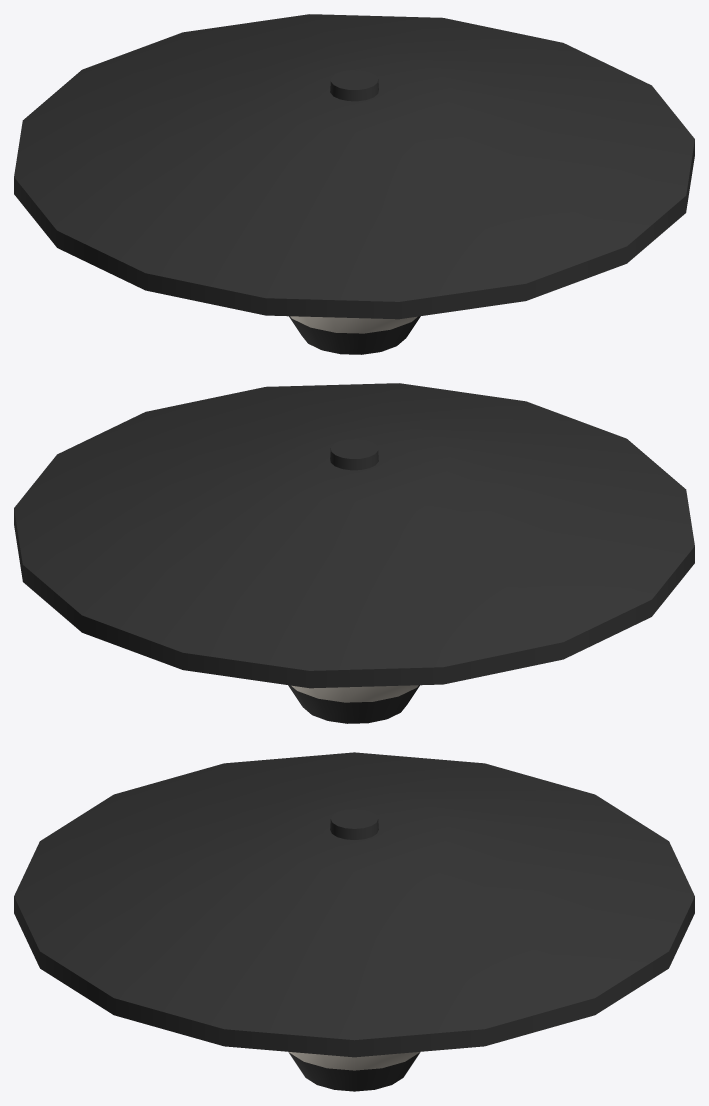
The picture shows the model from 3 angles, top to bottom: view 1: azimuth 30°, elevation 25°; view 2: azimuth 150°, elevation 25°; view 3: azimuth 270°, elevation 25°; orthographic projection.
Visible parts, largest first — view 1: Indal 2020, Indal 2020 Glas; view 2: Indal 2020, Indal 2020 Glas; view 3: Indal 2020, Indal 2020 Glas.
Boxes of the visible parts, bbox=[...] form: Indal 2020: bbox=[14, 14, 694, 354]; Indal 2020 Glas: bbox=[290, 316, 417, 333]; Indal 2020: bbox=[14, 383, 694, 723]; Indal 2020 Glas: bbox=[291, 685, 418, 702]; Indal 2020: bbox=[14, 752, 694, 1091]; Indal 2020 Glas: bbox=[289, 1052, 419, 1070].
Bounding box in the file's own units: 0.8388 × 0.34 × 0.8388.
3 materials, 2 textured.
